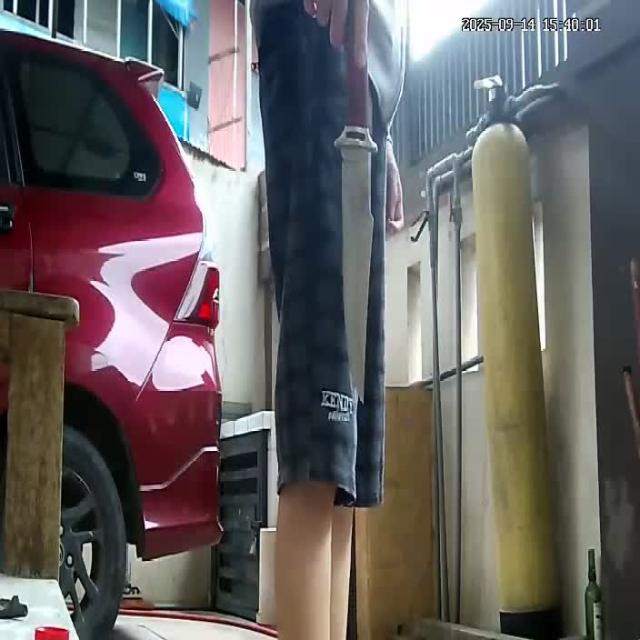senjata_tajam: (333, 31, 379, 408)
